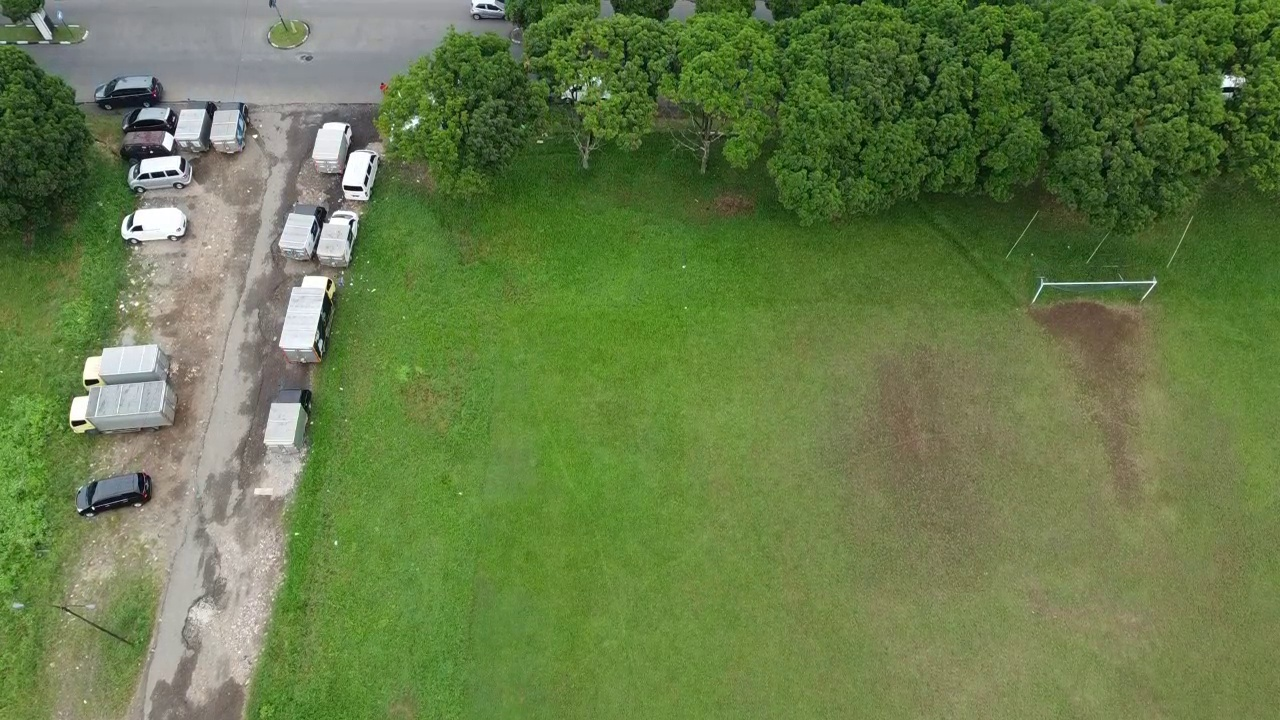mobil: (63, 472, 167, 517), (338, 142, 386, 206), (120, 205, 187, 250), (93, 74, 168, 111), (125, 155, 192, 190), (118, 129, 177, 160), (126, 104, 177, 138), (469, 1, 521, 25)
